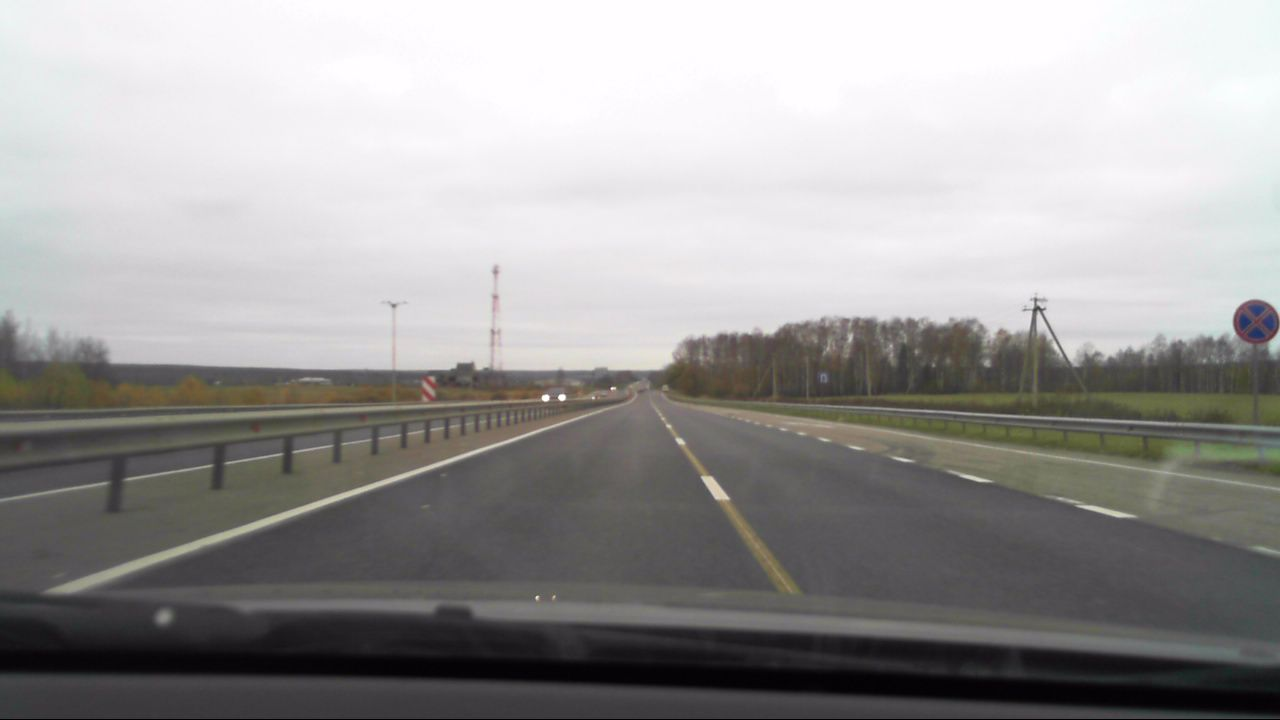No Parking: (1229, 300, 1279, 344)
